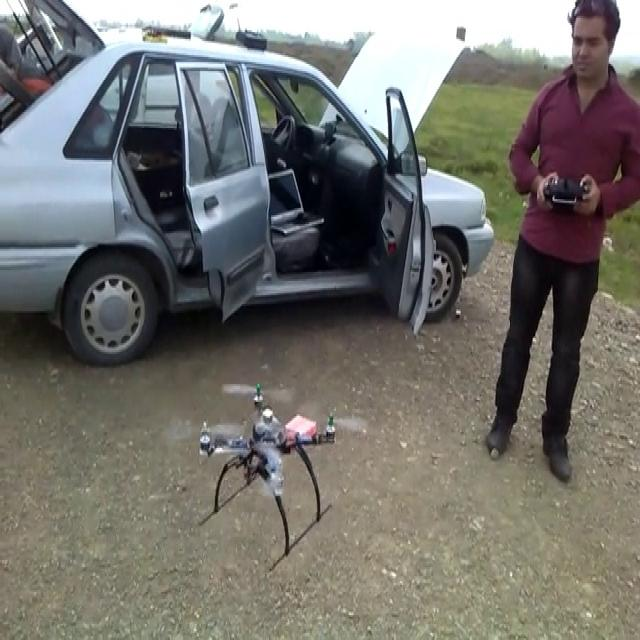drone: (157, 377, 366, 571)
